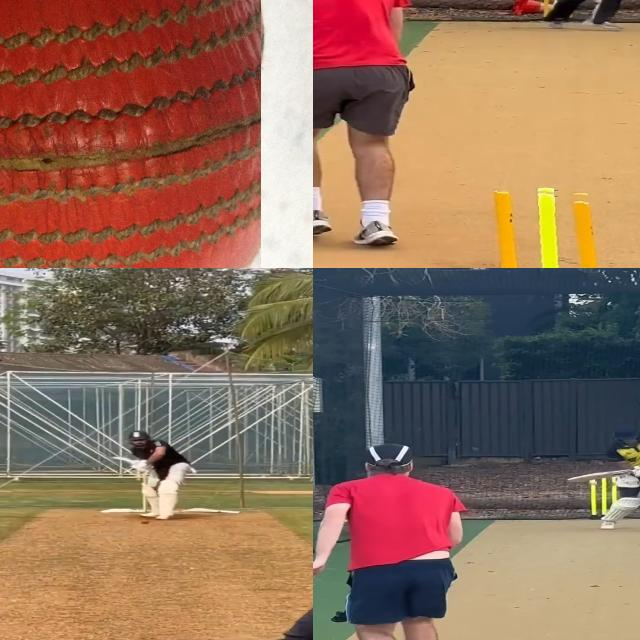Cricket ball: (0, 0, 261, 268), (588, 479, 598, 485), (141, 519, 149, 524)
Stumps: (477, 186, 606, 268)
